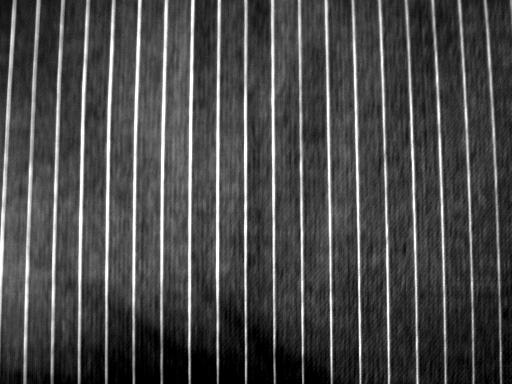fabric_perfect: (0, 2, 508, 384)
